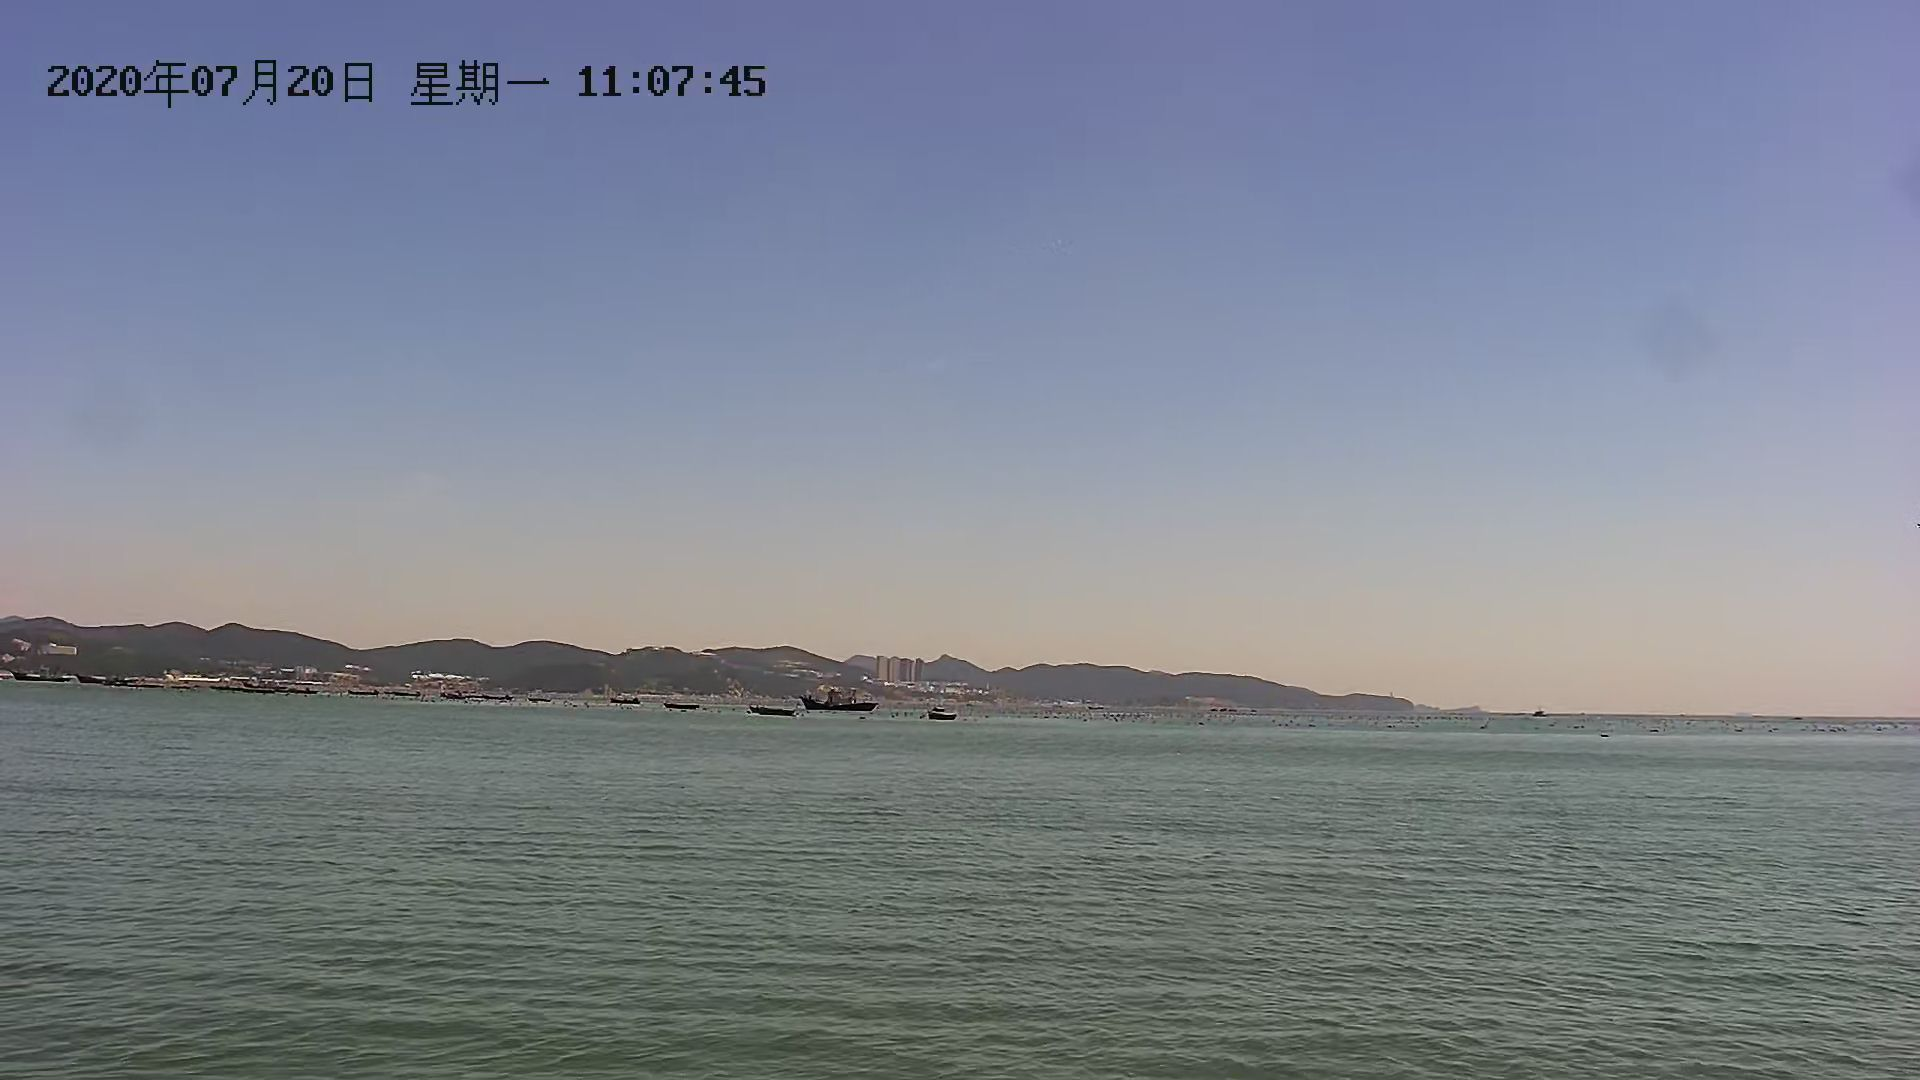boat: (804, 692, 882, 716), (741, 702, 804, 720), (919, 708, 967, 723)
